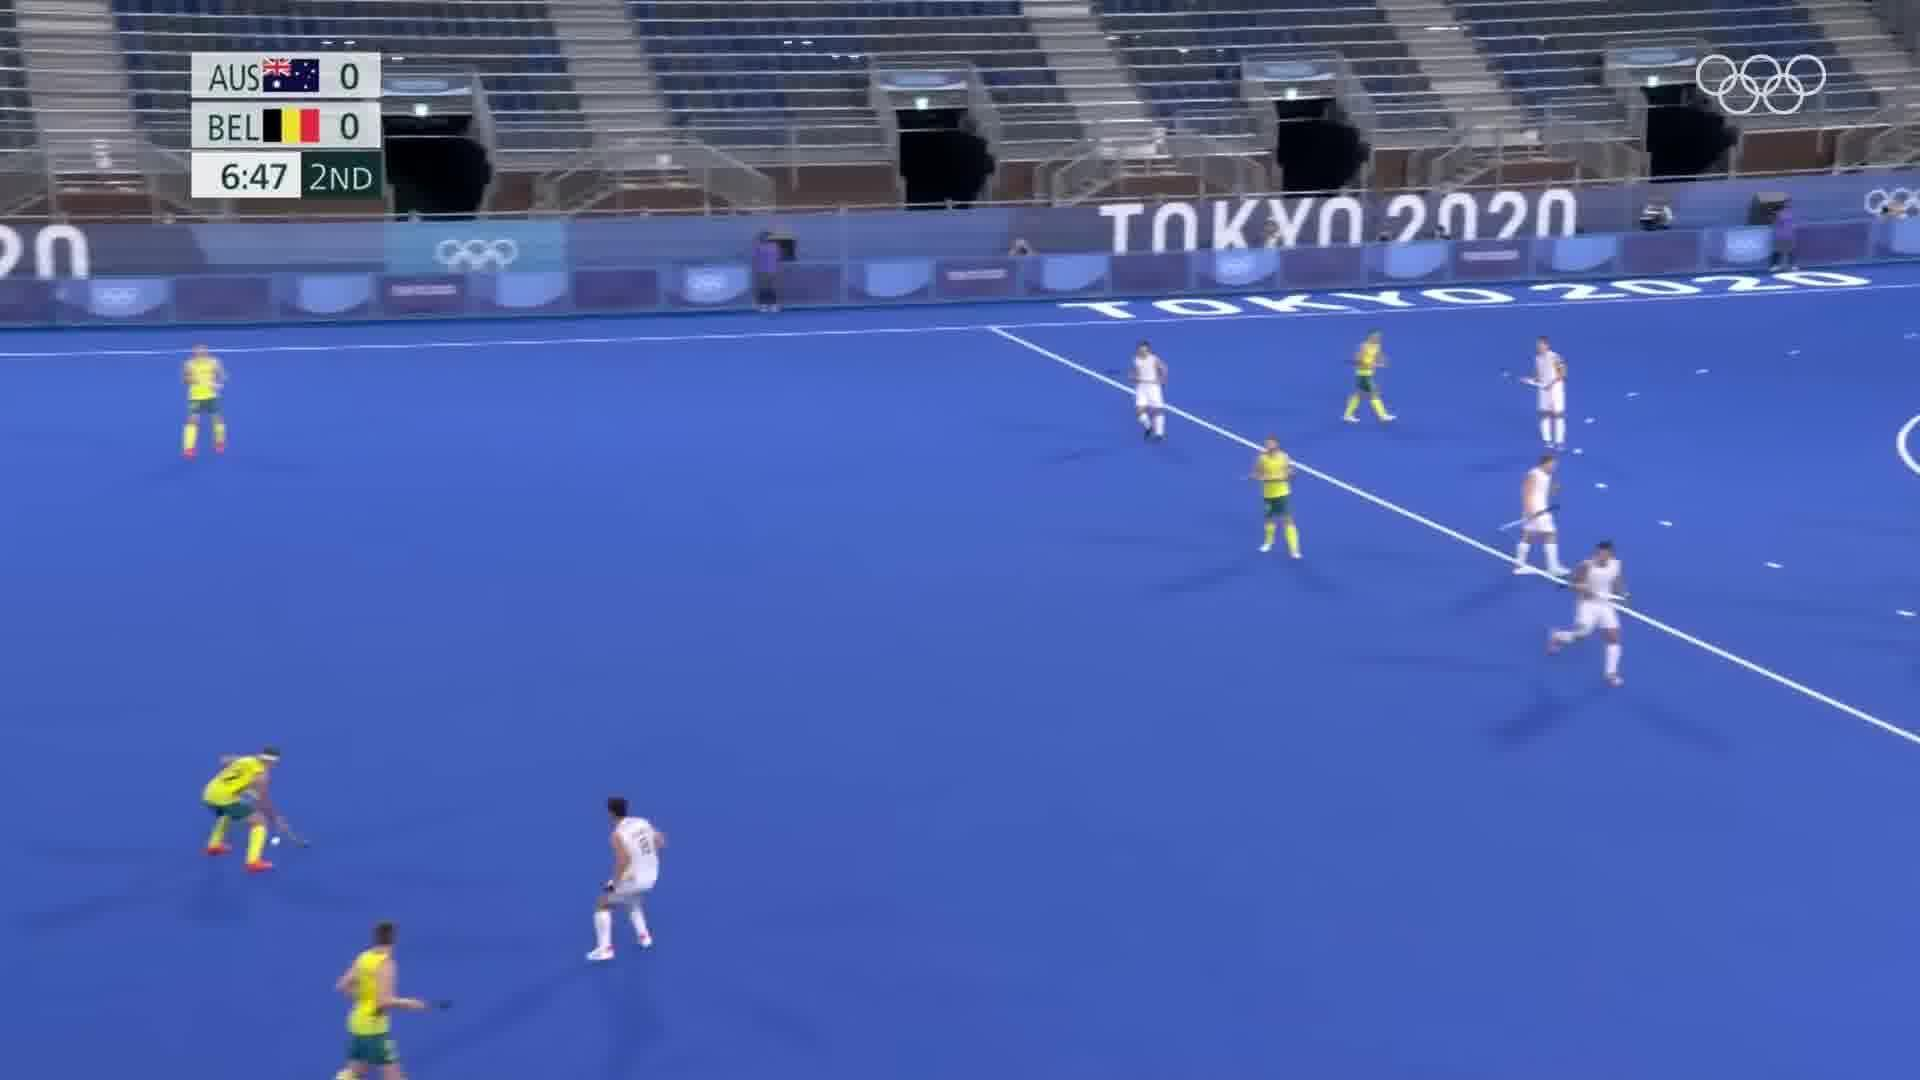ball: (267, 834, 286, 854)
